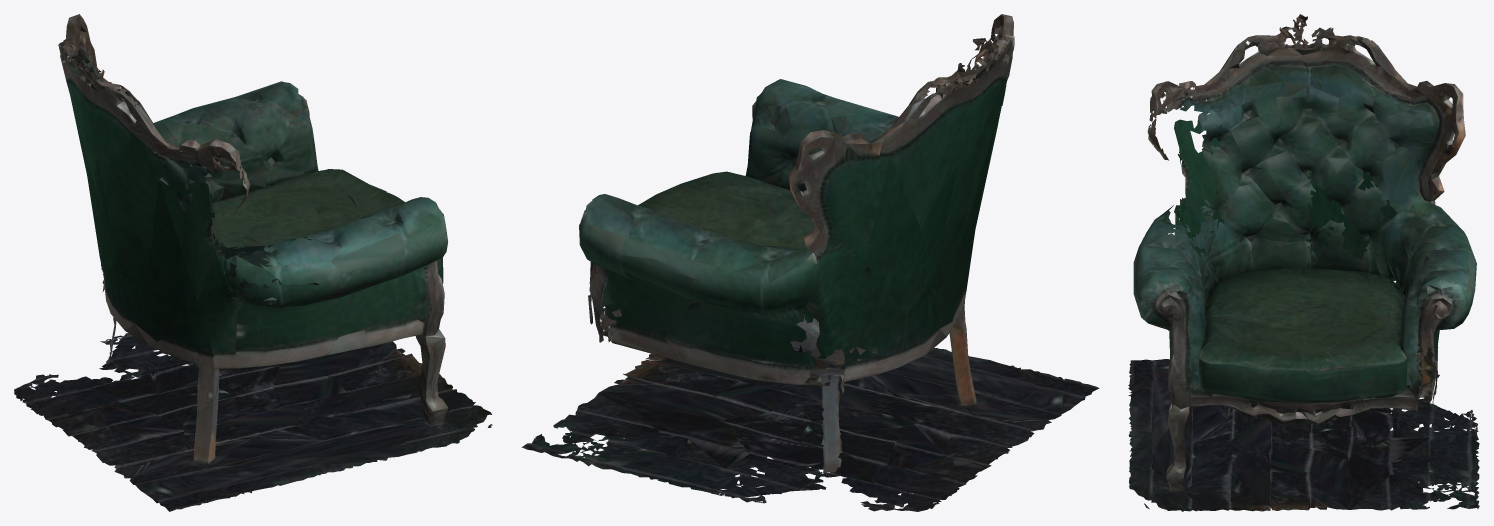
The model's file is armchair-k3.lod1.glb.
The picture shows the model from 3 angles, left to right: view 1: azimuth 30°, elevation 25°; view 2: azimuth 150°, elevation 25°; view 3: azimuth 270°, elevation 25°; orthographic projection. The views are drawn at different scales.
Parts seen in each view (by area): view 1: armchair-k3; view 2: armchair-k3; view 3: armchair-k3.
Boxes of the visible parts, <box> form: armchair-k3: <box>14,14,492,511</box>; armchair-k3: <box>521,14,1099,511</box>; armchair-k3: <box>1128,14,1479,511</box>.
Size of the model in its own units: 1.02 by 1.11 by 0.9963.
Materials: 1 (1 with a texture image).
